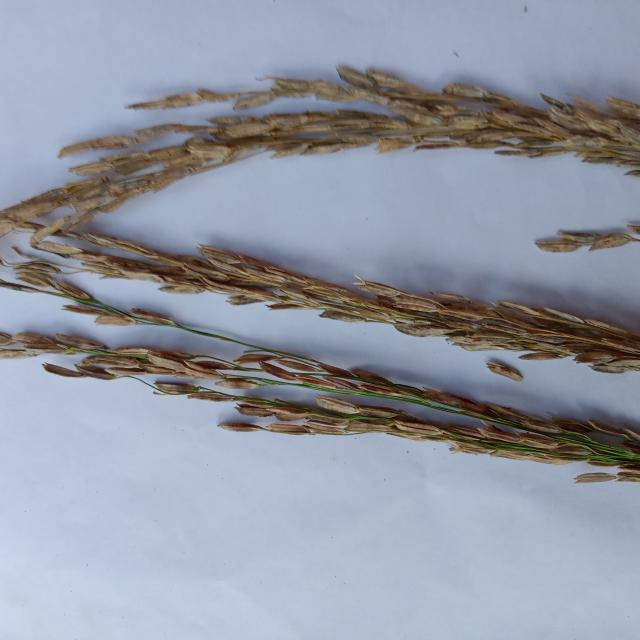Neck_Blast: (50, 77, 640, 222), (0, 334, 638, 468), (76, 231, 639, 372)
